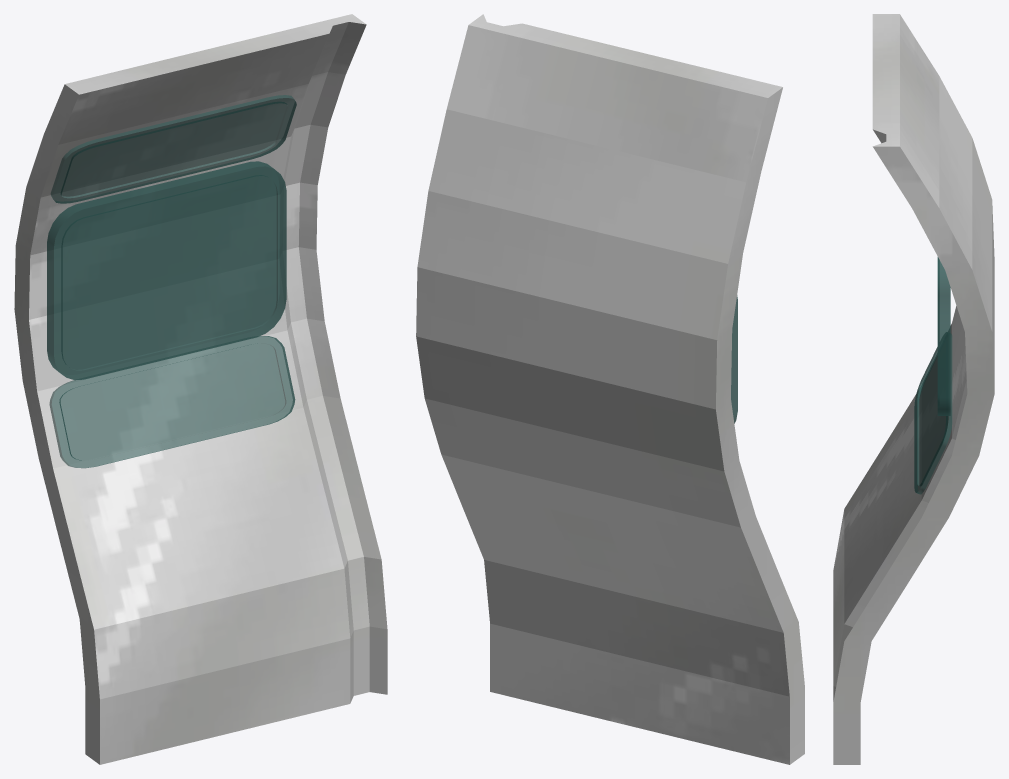
Rendered from RightHandComputerWall.fbx.
3 views of the same model, side by side, from view 1: azimuth 30°, elevation 25°; view 2: azimuth 150°, elevation 25°; view 3: azimuth 270°, elevation 25° (orthographic). The views are drawn at different scales.
Visible parts, largest first — view 1: pCube252, pCube251; view 2: pCube252, pCube251; view 3: pCube252, pCube251.
Boxes of the visible parts, box(x1,y1,x2,y2) form: pCube252: box(14, 14, 387, 764); pCube251: box(47, 95, 296, 468); pCube252: box(416, 14, 804, 764); pCube251: box(731, 295, 737, 423); pCube252: box(833, 14, 994, 764); pCube251: box(914, 257, 952, 494).
Bounding box in the file's own units: 287 × 625 × 148.
2 materials, 1 textured.
